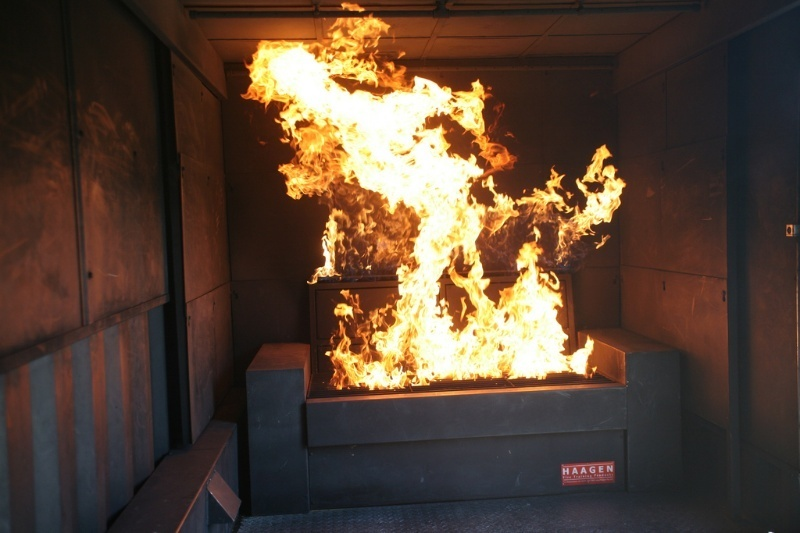fire: (264, 0, 639, 396)
